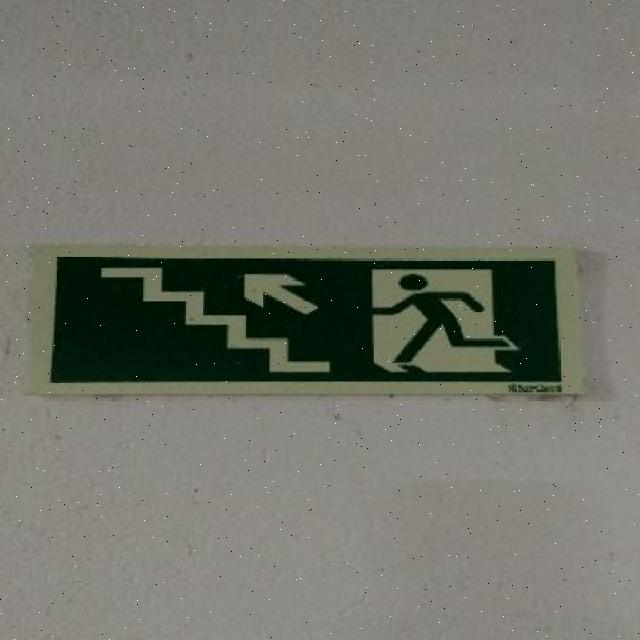emergency_exit: (24, 243, 587, 398)
